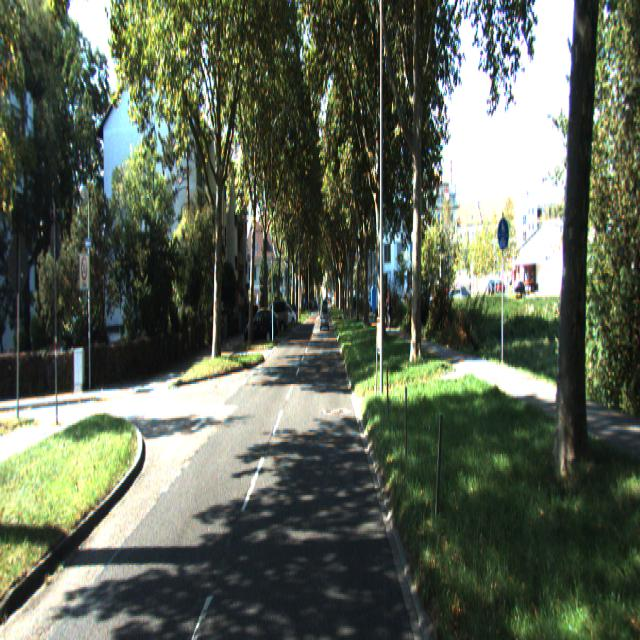Car: (246, 304, 276, 343)
